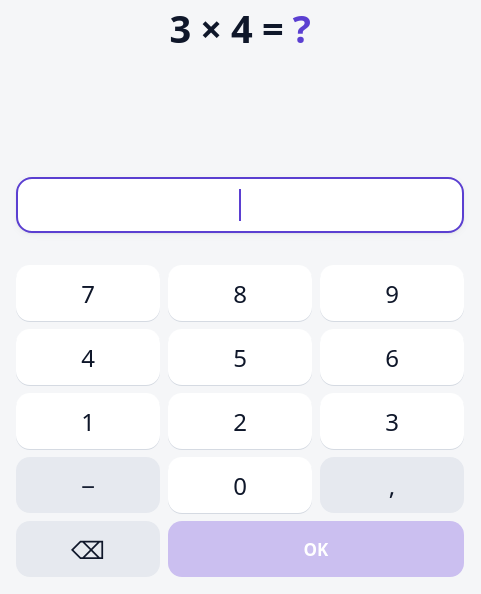
Test: QuestionView › shows a typographic minus, supports backspace and disables OK only when empty
The image size is (481, 594).
Click the button named "min". click: (88, 485)
box: 16,457 -> 160,513
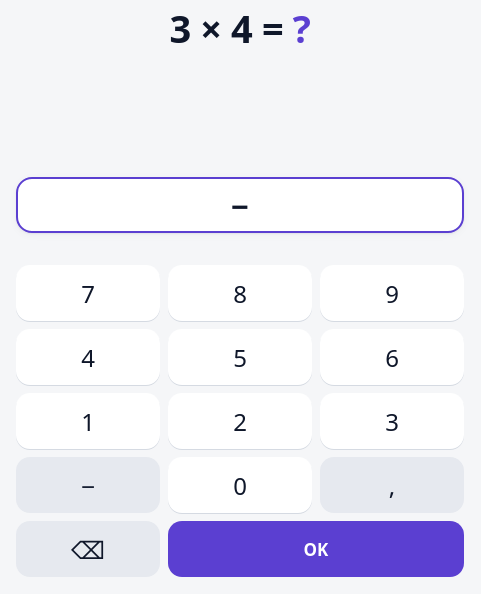
Click the button "5". click: (240, 357)
box: 168,329 -> 312,385
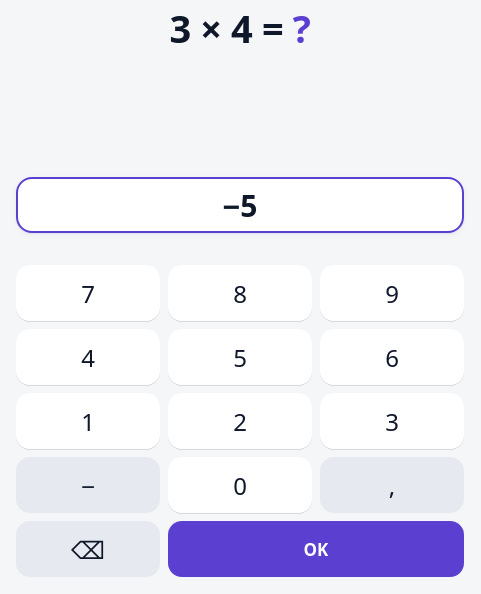
Click the button named "wissen". click: (88, 549)
box: 16,521 -> 160,577
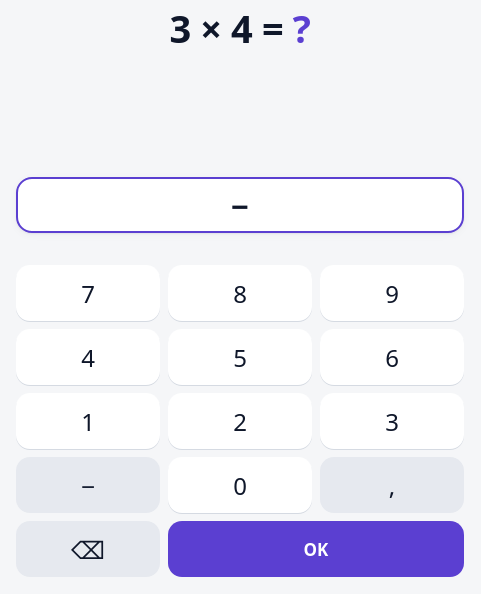
expect the button "OK" is enabled: met, box 168,521 -> 464,577
Click the button named "wissen". click: (88, 549)
box: 16,521 -> 160,577
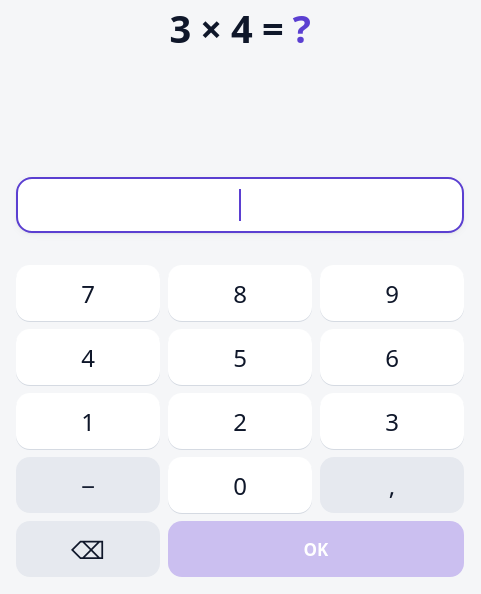
expect the button "OK" is disabled: met, box 168,521 -> 464,577
